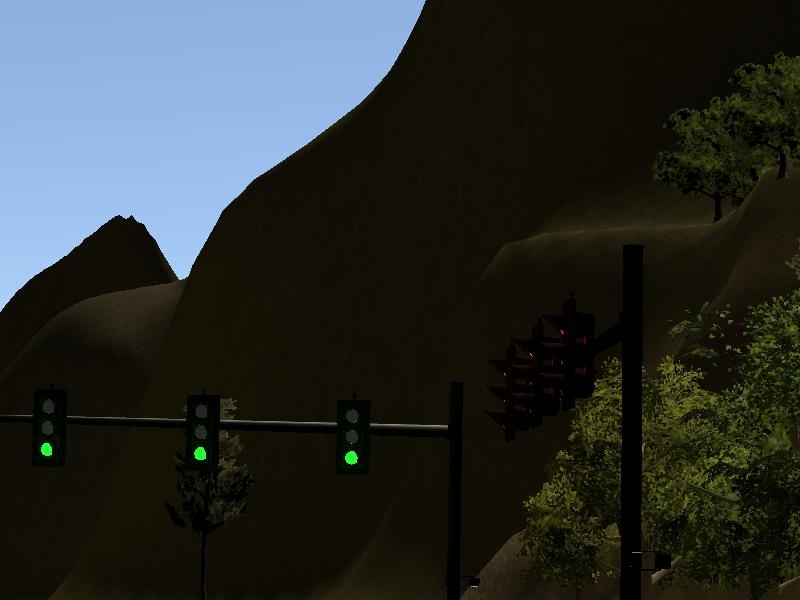GREEN: (29, 388, 64, 465), (183, 390, 218, 467), (333, 396, 368, 473)
